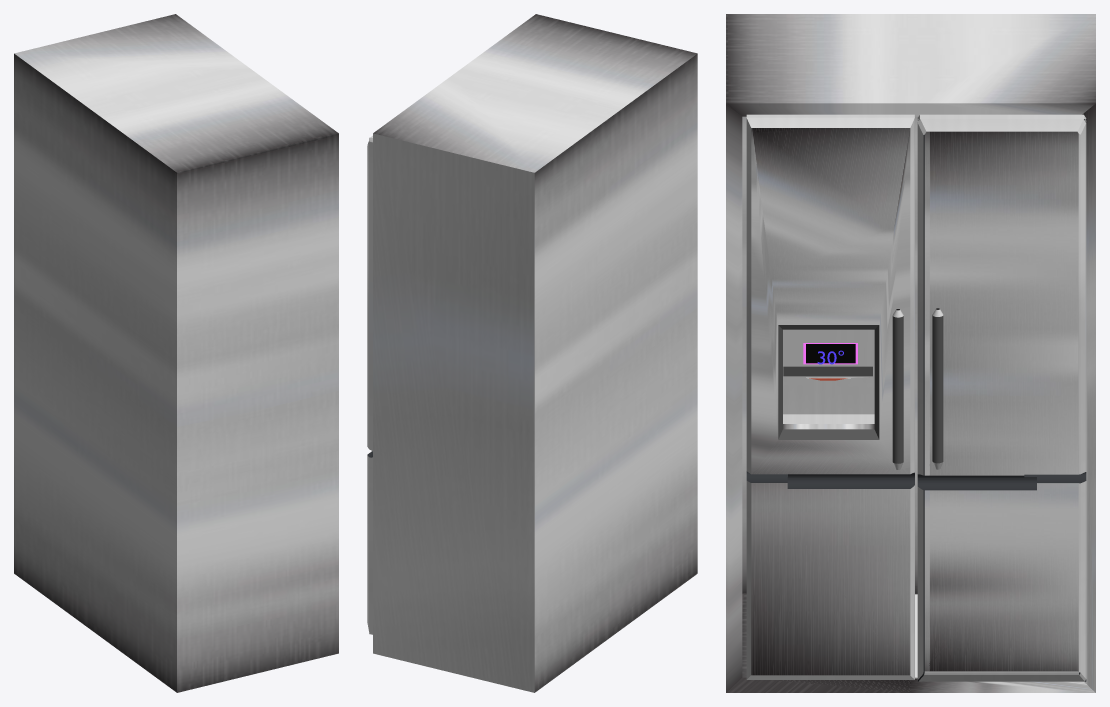
File: fridge.glb
The picture shows the model from 3 angles, left to right: view 1: azimuth 30°, elevation 25°; view 2: azimuth 150°, elevation 25°; view 3: azimuth 270°, elevation 25°; orthographic projection. The views are drawn at different scales.
Parts seen in each view (by area): view 1: fijedere; view 2: fijedere; view 3: fijedere.
Boxes of the visible parts, x1,y1,x2,y2 form: fijedere: [14, 14, 338, 692]; fijedere: [367, 14, 697, 692]; fijedere: [726, 14, 1095, 692].
Bounding box in the file's own units: 2.87 × 7.4 × 4.2.
Materials: 9 (1 with a texture image).
